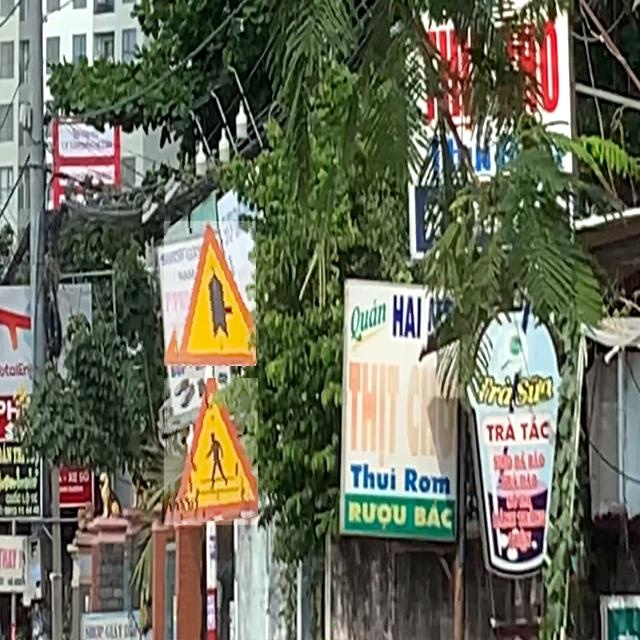bien_nguy_hiem: (164, 378, 258, 525), (164, 221, 256, 366)
